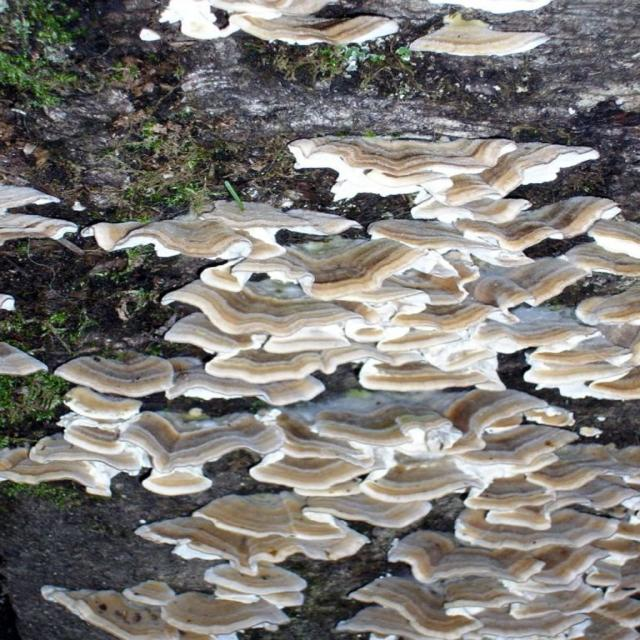Mushroom: (0, 135, 639, 640), (137, 0, 400, 46), (412, 14, 554, 56), (426, 0, 546, 15)
